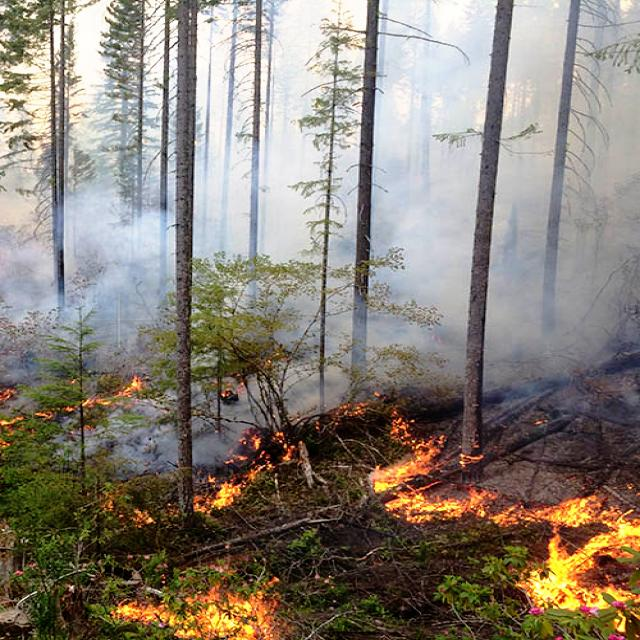api: (521, 487, 640, 622), (127, 578, 282, 640), (376, 421, 439, 497), (204, 456, 281, 515), (399, 492, 514, 530)
asap: (5, 182, 172, 376), (391, 184, 480, 407), (501, 295, 640, 424), (117, 402, 240, 459)
